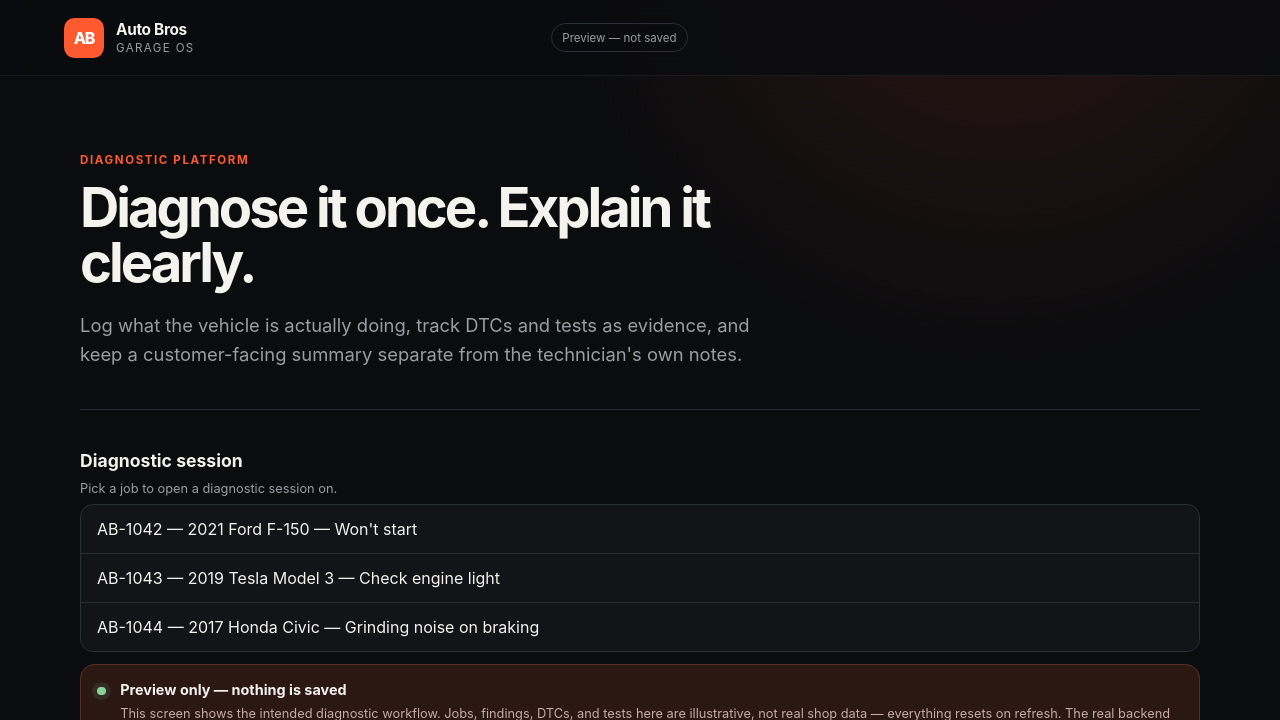
it: DiagnosticsPage › validates the DTC code format as the user types
Click the button "AB-1042 — 2021 Ford F-150 — Won't start" at coordinates (257, 529), box [81,505,1199,553]
(page scrolled)
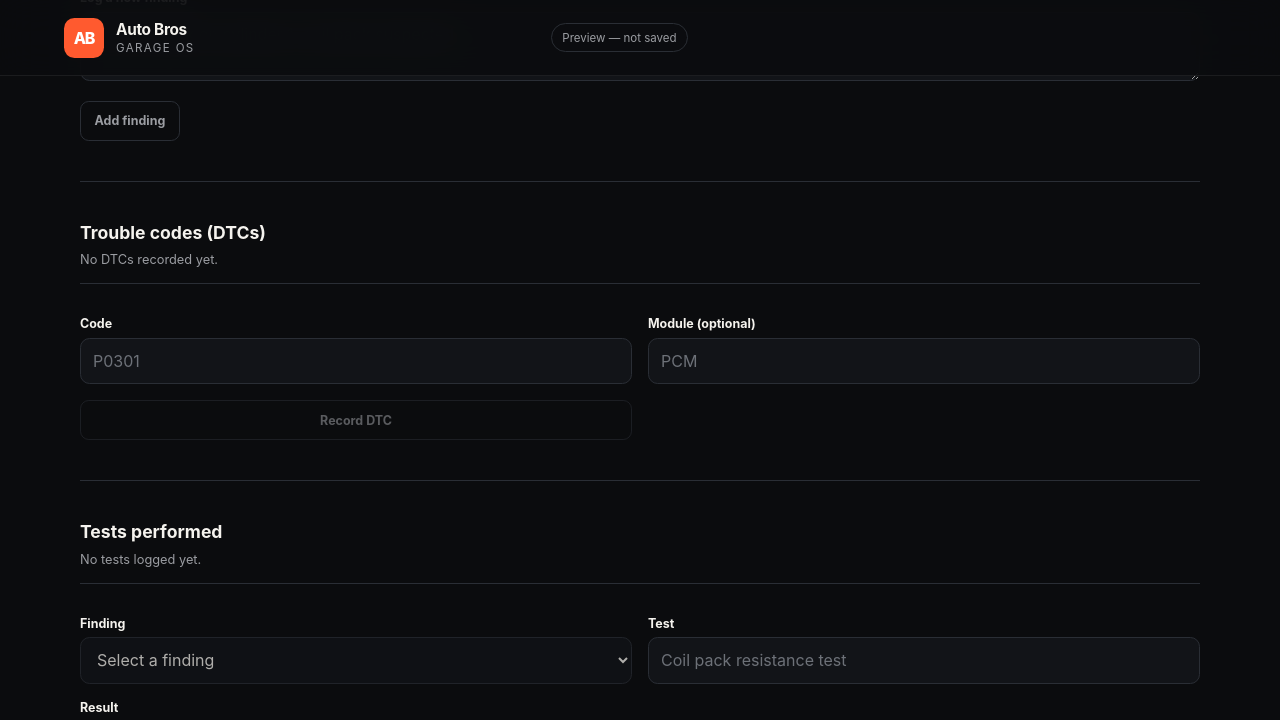
Type "not-a-code" into the field labelled "Code" at coordinates (356, 361), box [80,338,632,384]
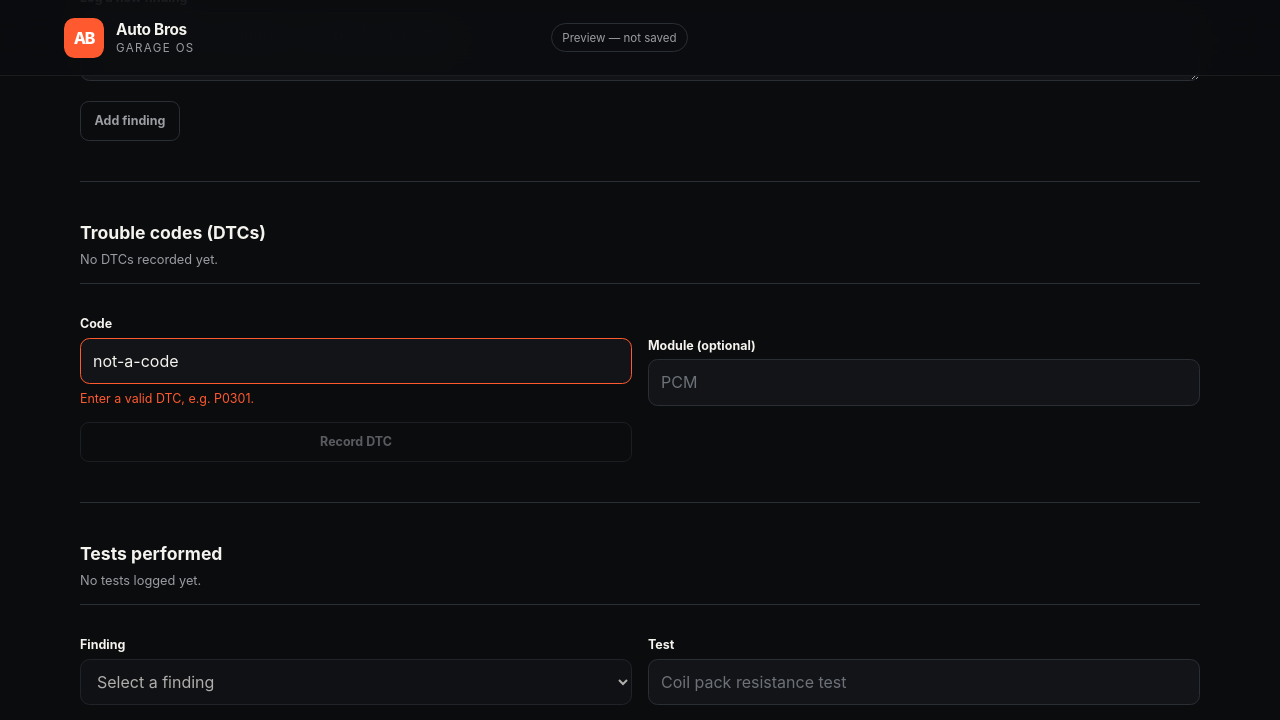
Check: the button "Record DTC" is disabled, box [80,422,632,462]
Check: the text "Enter a valid DTC, e.g. P0301." is shown, box [80,390,254,406]
